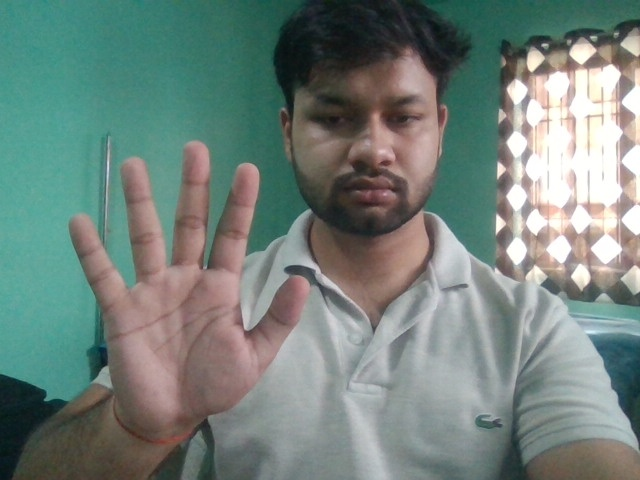Hello: (56, 136, 312, 446)
